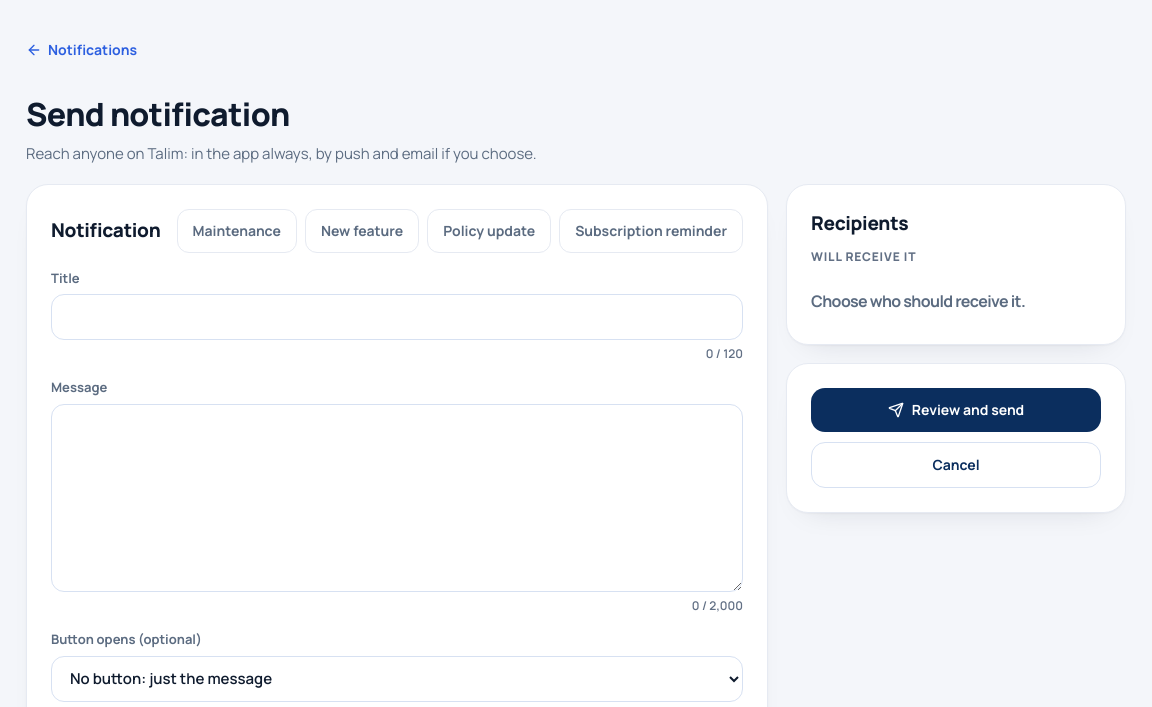
Test: Broadcast composer › counts title and message characters
Type "Scheduled maintenance" into the field labelled "Title" at (397, 317), box 51,294 -> 743,340
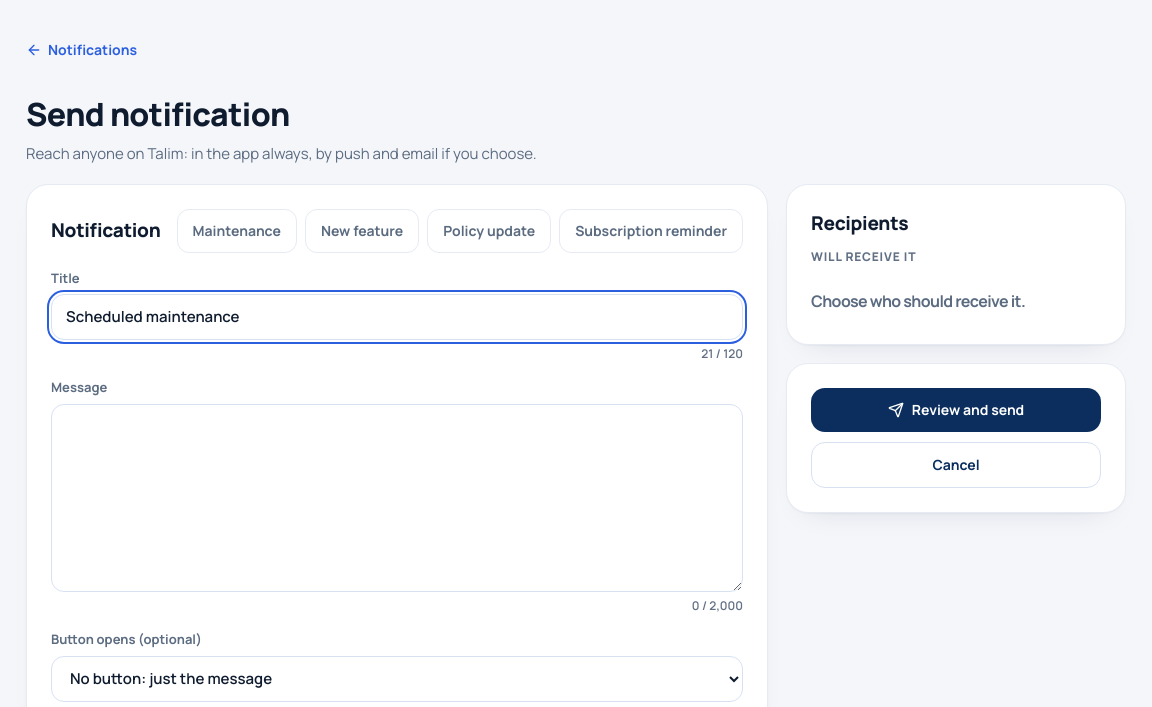
Type "Talim is down on Saturday night." into the text box labelled "Message" at (397, 498), box 51,404 -> 743,592
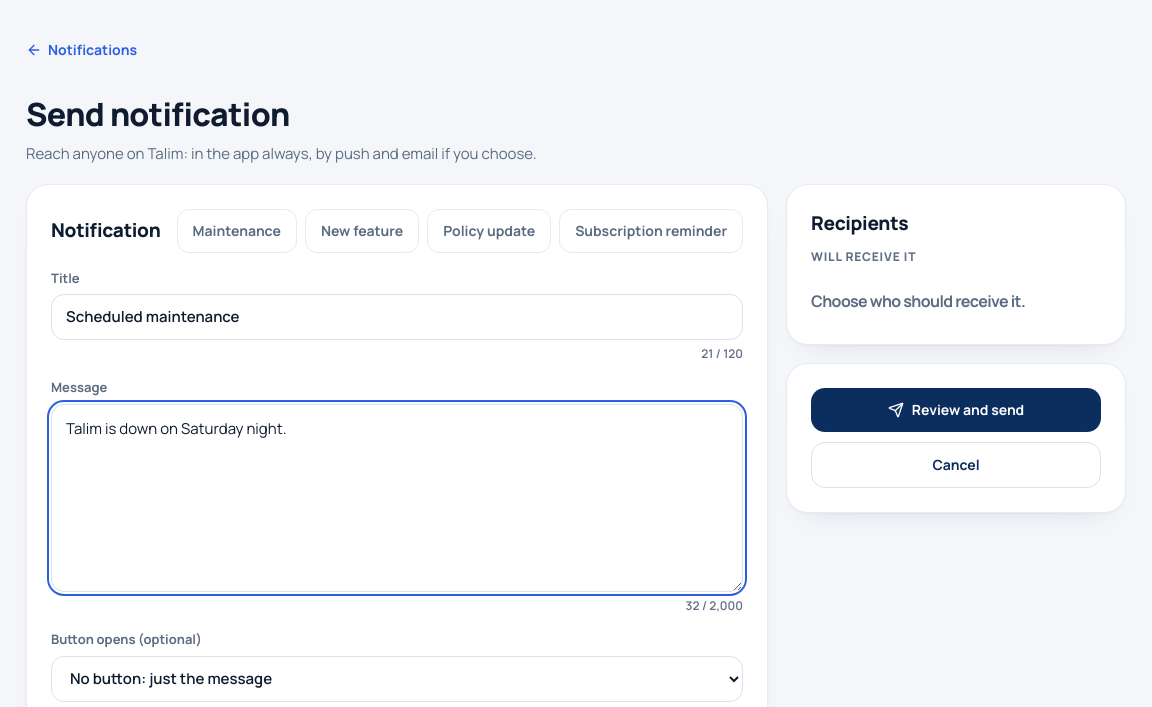
Now the text "21 / 120" is shown, box 701,346 -> 743,362
Now the text "32 / 2,000" is shown, box 686,598 -> 743,614
